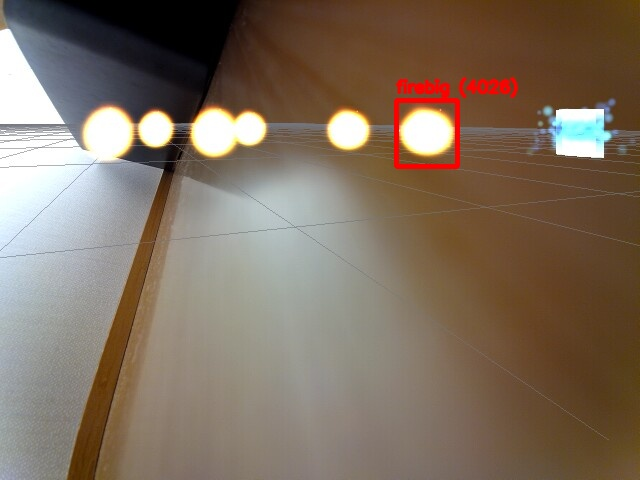firebig: (396, 100, 457, 166)
